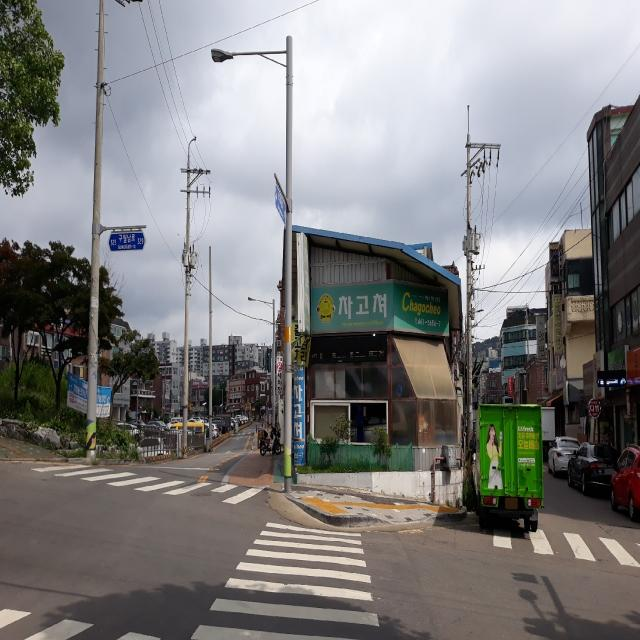횡단보도: (190, 522, 380, 640), (488, 516, 640, 570), (20, 465, 267, 497)
